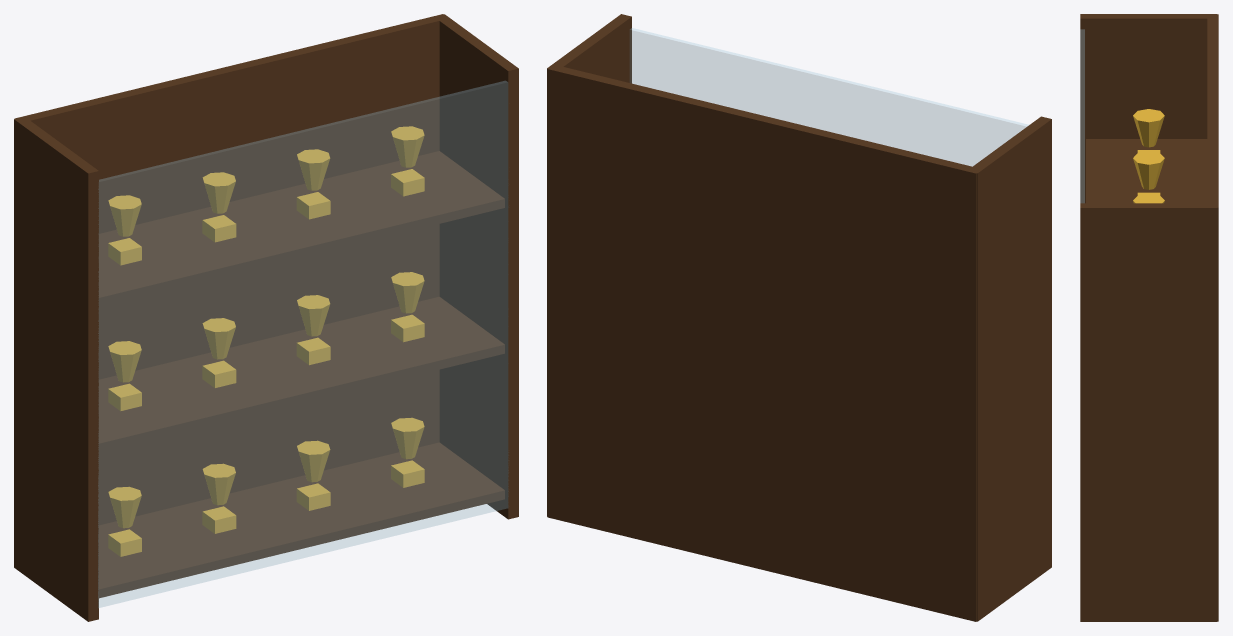
File: trophy_case.glb
3 renders of one model, left to right at view 1: azimuth 30°, elevation 25°; view 2: azimuth 150°, elevation 25°; view 3: azimuth 270°, elevation 25°, orthographic. The views are drawn at different scales.
Visible parts, largest first — view 1: glass_case_glass, back_case_wood, shelf_case_wood, side_case_wood, cup_trophy_gold, foot_trophy_gold; view 2: back_case_wood, side_case_wood, glass_case_glass; view 3: side_case_wood, shelf_case_wood, back_case_wood, cup_trophy_gold, glass_case_glass.
Boxes of the visible parts, left/top/right/bottom form: glass_case_glass: left=98, top=81, right=508, bottom=607; back_case_wood: left=14, top=14, right=448, bottom=525; shelf_case_wood: left=99, top=151, right=504, bottom=598; side_case_wood: left=14, top=14, right=518, bottom=621; cup_trophy_gold: left=108, top=126, right=424, bottom=528; foot_trophy_gold: left=108, top=169, right=424, bottom=556; back_case_wood: left=547, top=65, right=981, bottom=621; side_case_wood: left=547, top=14, right=1051, bottom=621; glass_case_glass: left=630, top=28, right=1028, bottom=166; side_case_wood: left=1080, top=14, right=1217, bottom=621; shelf_case_wood: left=1086, top=139, right=1207, bottom=203; back_case_wood: left=1207, top=14, right=1218, bottom=621; cup_trophy_gold: left=1133, top=109, right=1164, bottom=203; glass_case_glass: left=1080, top=29, right=1084, bottom=202.
Size of the model in its own units: 2.01 by 2 by 0.605.
